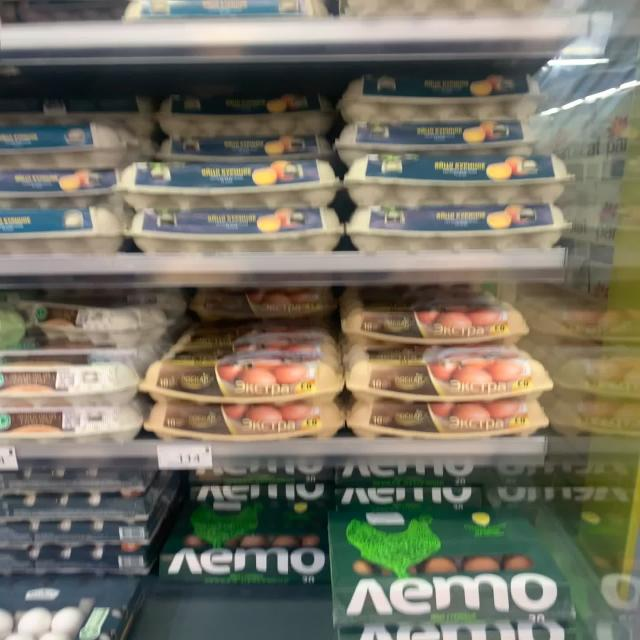egg box: (334, 342, 556, 402), (343, 150, 569, 203), (126, 205, 346, 252), (117, 159, 341, 205), (143, 354, 344, 404), (350, 204, 570, 249), (338, 296, 528, 348), (347, 392, 548, 440), (140, 397, 344, 442), (332, 116, 530, 153), (153, 128, 338, 165)
